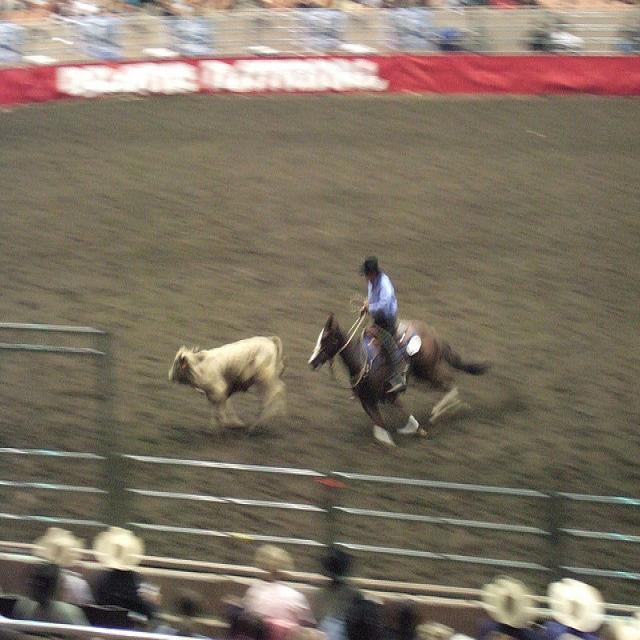cow: (168, 332, 284, 431)
